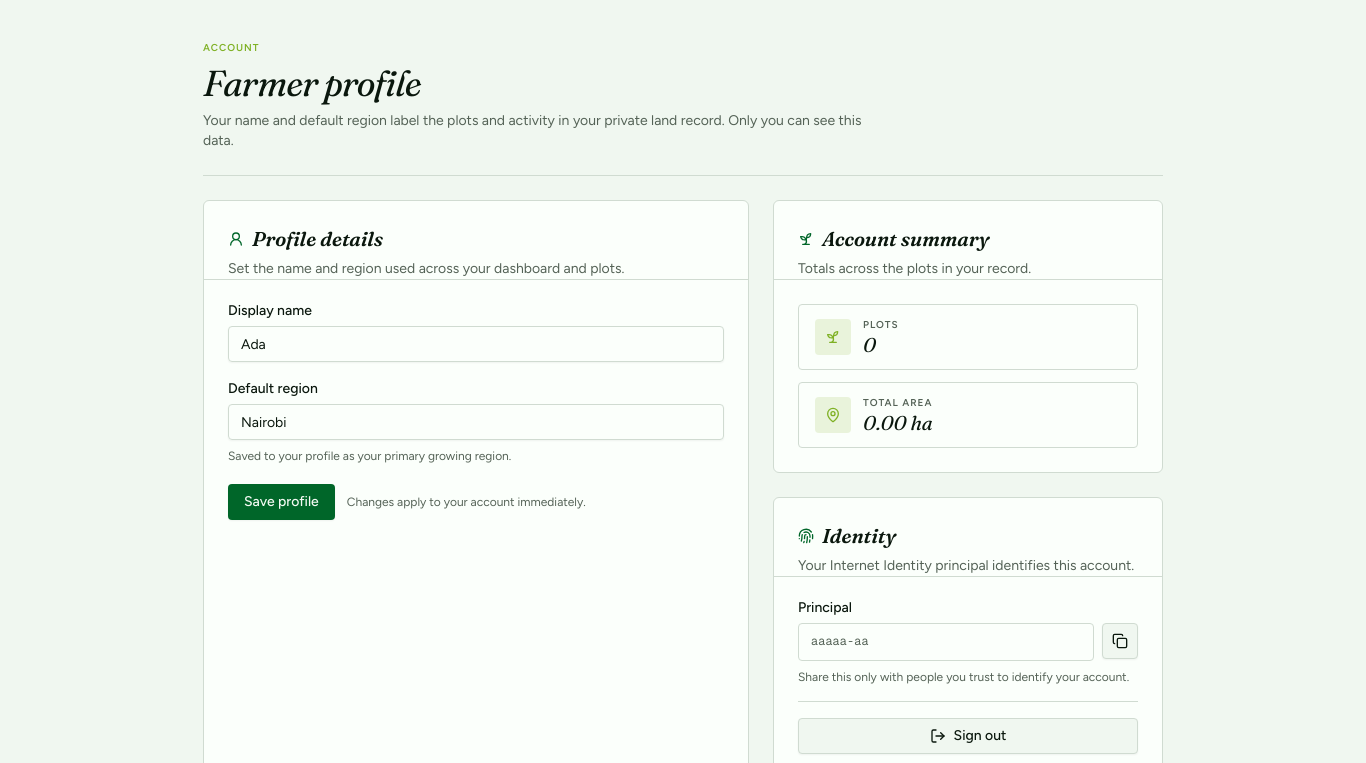
Test: ProfilePage › saves an edited profile
The image size is (1366, 763).
Replace the text in the field showing "Ada" with "Ada Okonkwo" at {"x": 476, "y": 344}, box [228, 326, 724, 362]
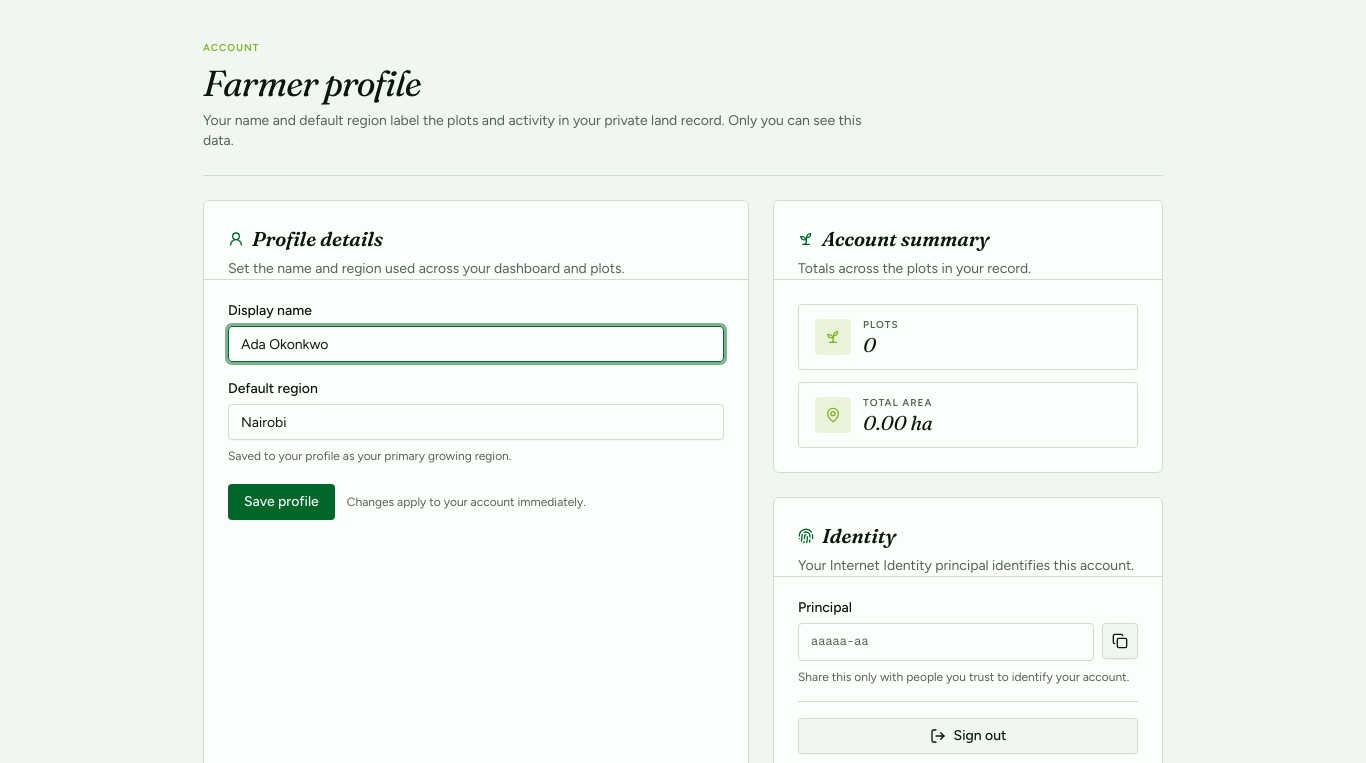
Click the button "Save profile" at {"x": 281, "y": 502}, box [228, 484, 335, 520]
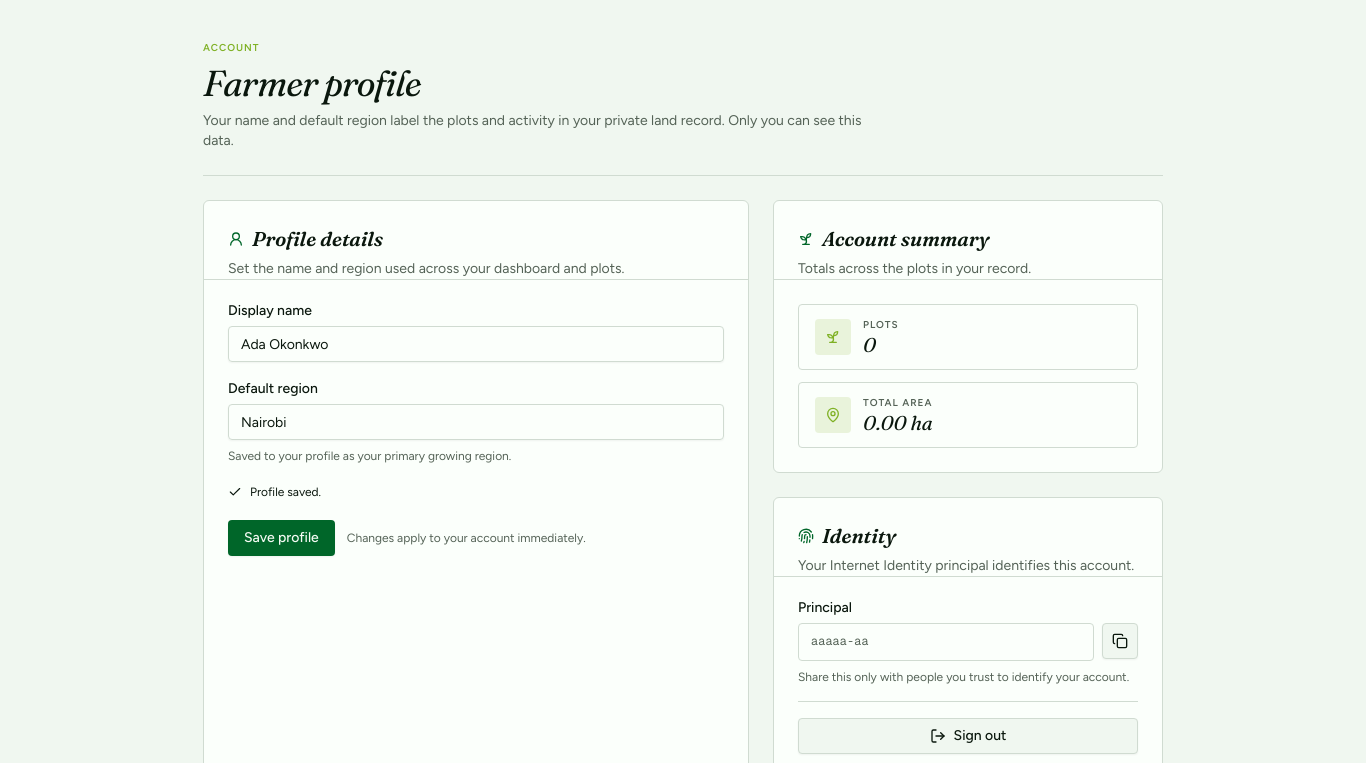
Expected: the text "Profile saved." is shown, [228, 485, 321, 499]
